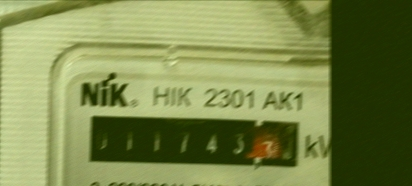0: (94, 125, 108, 152)
1: (121, 125, 135, 153), (149, 126, 162, 154)
3: (230, 130, 244, 157), (259, 140, 274, 161)
4: (204, 131, 218, 156)
7: (176, 129, 190, 154)
screen: (81, 111, 307, 175)
